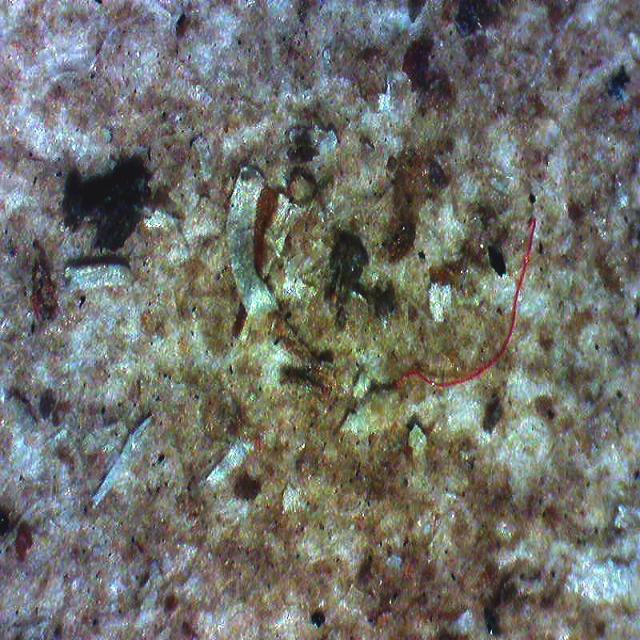microplastic: (392, 218, 535, 387)
